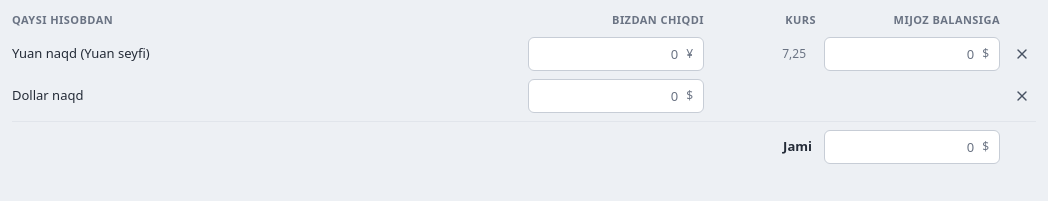
a line in another currency the business keeps › shows the pair’s own rate in its line, said whole to whoever points at it
Expected: the text "Yuan naqd (Yuan seyfi)" is shown, [12,44,150,63]
Expected: the text titled "1 $ = 7,25 ¥" is shown, [782,44,806,62]
In the 1st field with placeholder "0": (606, 54) [529,38,682,70], type "7250"
Then press Tab
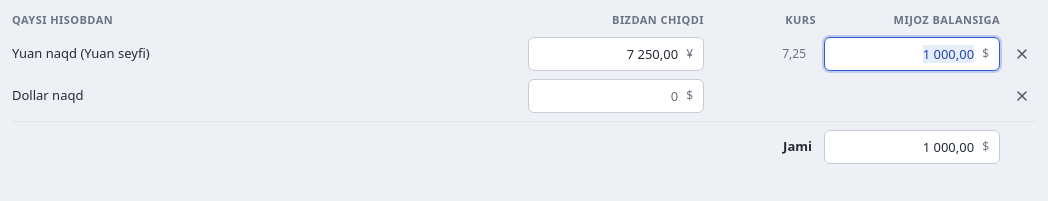
The second sum typed over: the yuan stay, and what the agreement costs is said in so'm.
Replace the text in the 2nd field with "990": (902, 54) [825,38,978,70]
Then press Tab
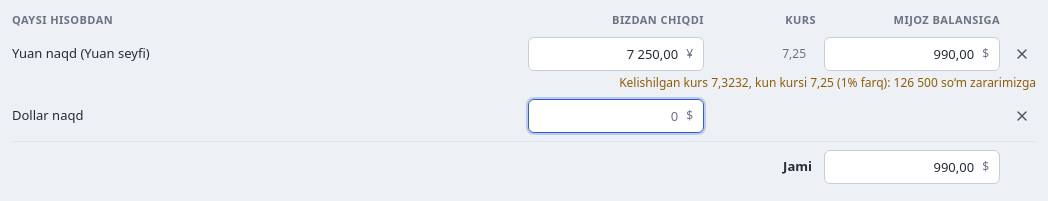
Now the text "Kelishilgan kurs 7,3232, kun kursi 7,25 (1% farq): 126 500 so‘m zararimizga" is shown, box [619,74,1036,90]
